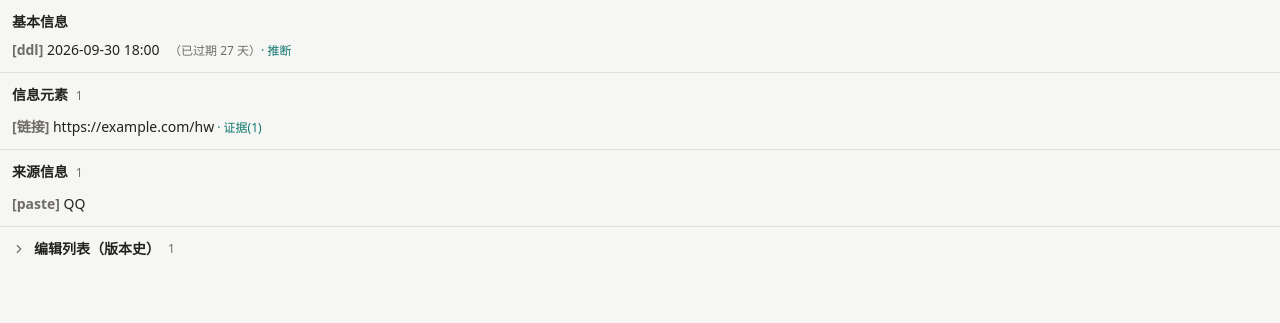
Test case: ItemBody（展开体，D-80/D-82） › 分级默认：基本信息与元素平铺可见、引文收起（点元素展开）、版本史只显计数
The width and height of the screenshot is (1280, 323).
Expected: the text "[ddl]" is shown, [12,40,43,59]
Expected: the text "· 证据(1)" is shown, [214,119,262,136]
# 点元素行展开引文（引文是唯一折叠层）
Click the text "[链接]": [14, 126] box [12,117,49,136]
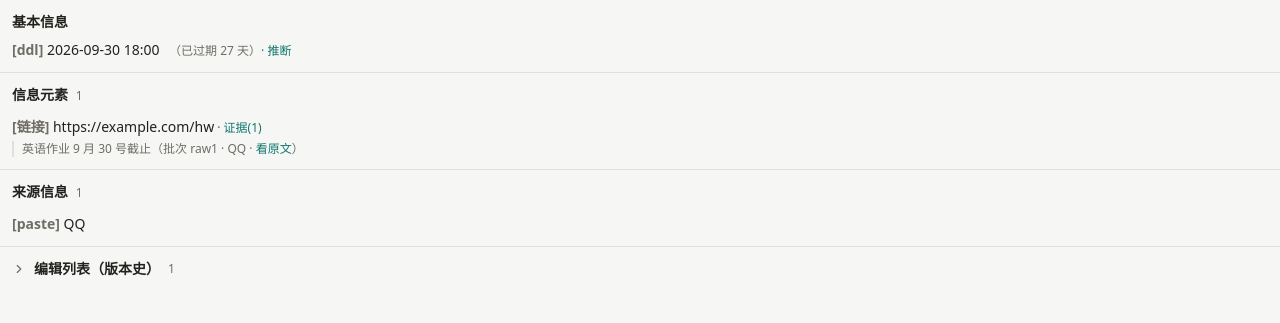
Expected: the button "看原文" is shown, [256,141,292,157]
Click the text "[链接]": [14, 126] box [12,117,49,136]
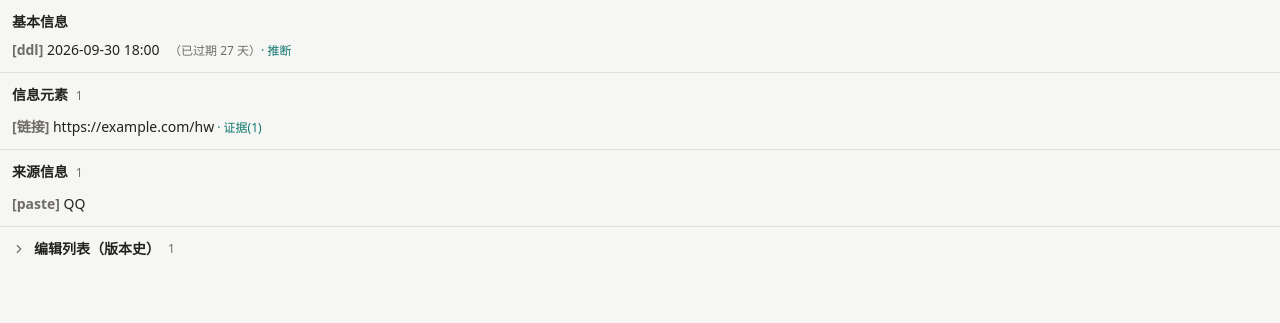
Expected: the text "新建事项" is not shown
Expected: the button "看原文" is gone
Click the button "编辑列表（版本史） 1": [97, 248] box [12,239,1268,259]
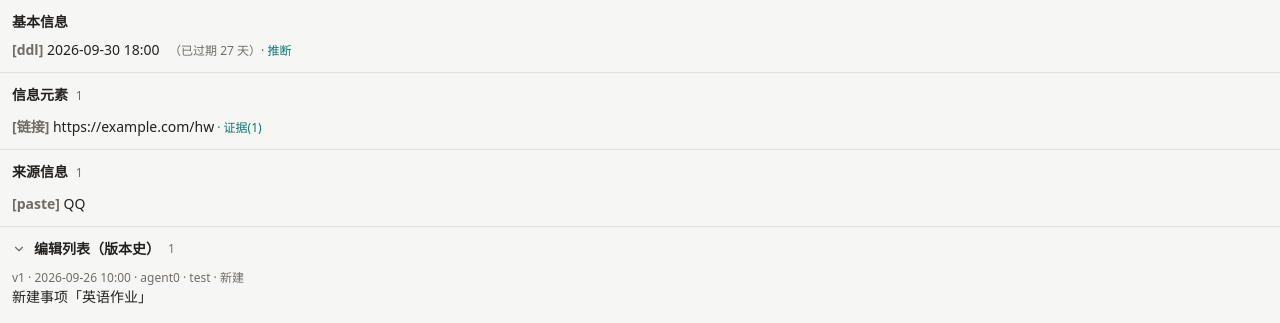
Expected: the list item "新建事项" is shown, [12,287,152,306]
